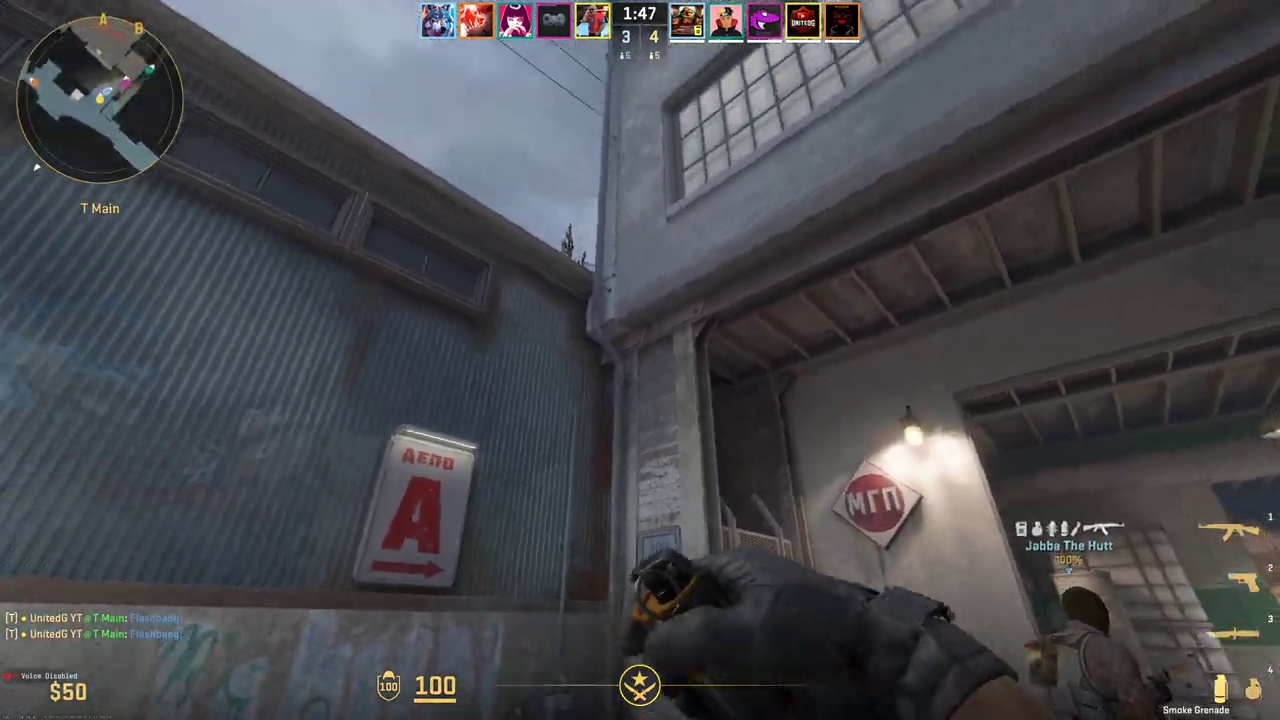Terrorist: (1027, 586, 1157, 720)
